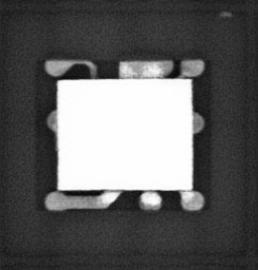DIE_INK: (218, 9, 233, 17)
